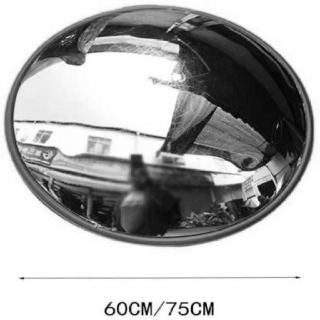other: (104, 66, 171, 132)
